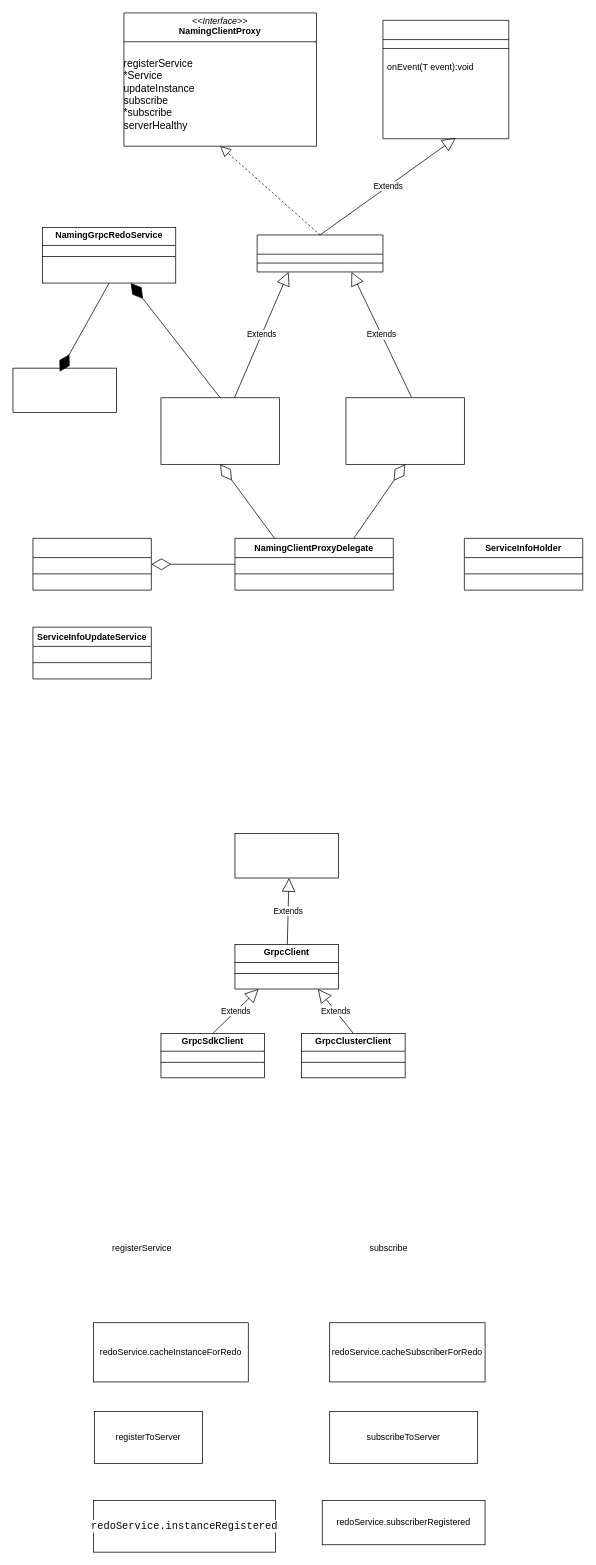
Some shapes in this 596 by 1565 pixel diagram are drawn without their labels. Here are the shapes that lost their labels. From the top down, the box of each, then its label:
(382, 20, 509, 139): Subscriber
(256, 234, 383, 272): AbstractNamingClientProxy
(12, 367, 117, 413): RedoScheduledTask
(160, 397, 279, 464): NamingGrpcClientProxy
(345, 397, 464, 464): NamingHttpClientProxy
(32, 538, 151, 590): ServerListManager
(234, 833, 339, 878): RpcClient
